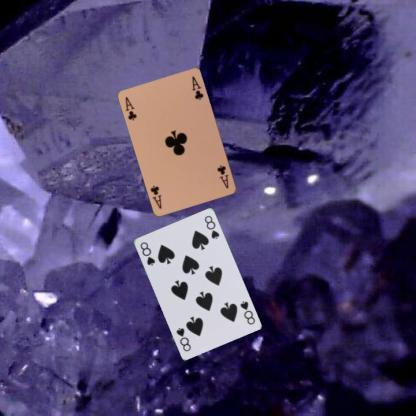8s: (237, 298, 256, 326), (138, 239, 156, 266)
Ac: (215, 162, 230, 190), (123, 94, 138, 122)
